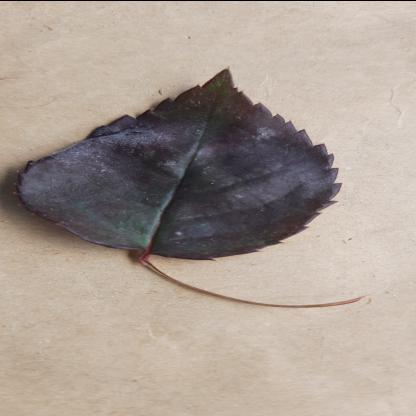powdery-mildew: (14, 63, 345, 258)
